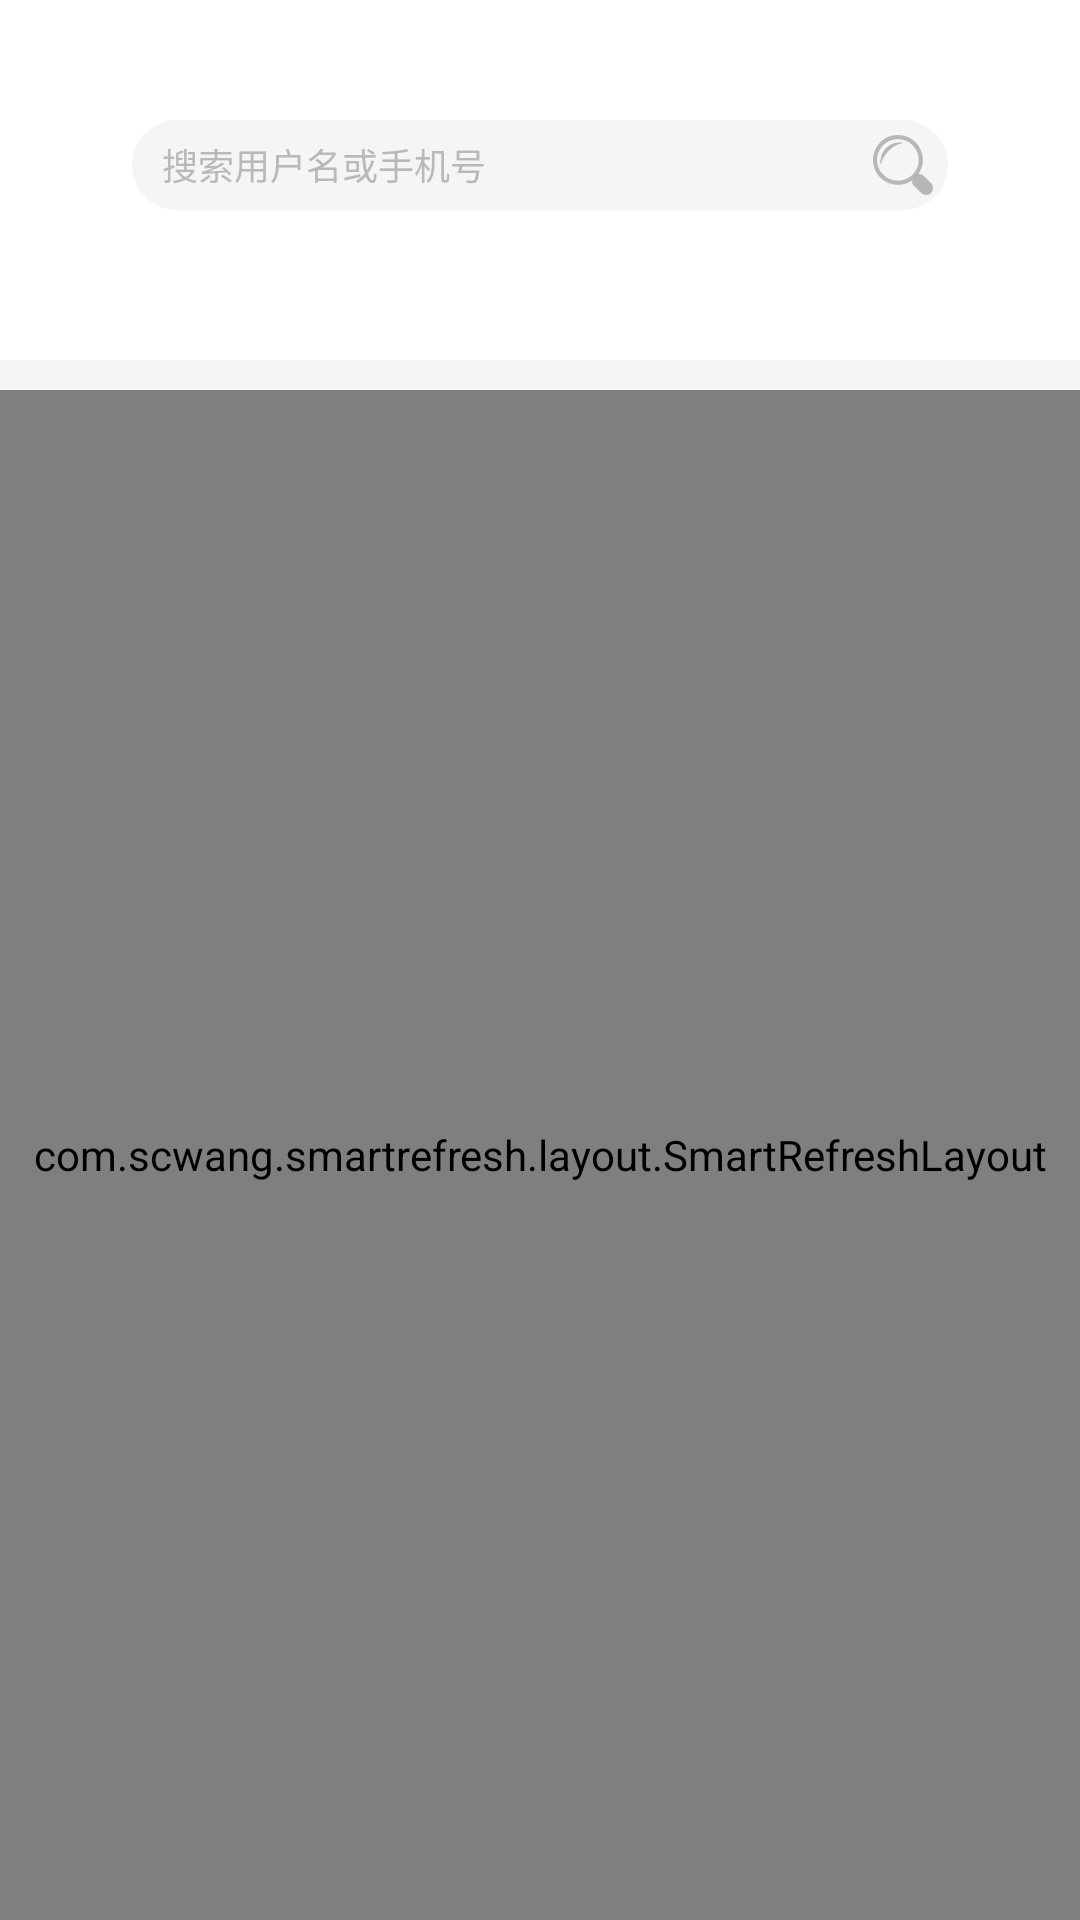

Where icons sit on this 1080w x 1920h app screen, as (x1, y1, x2, y2):
search: (873, 135, 933, 195)
